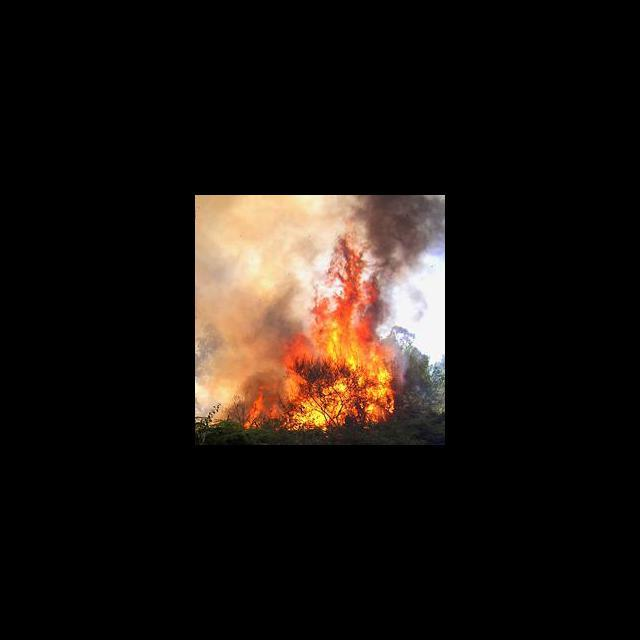Fire: (243, 232, 398, 430)
Smoke: (196, 197, 307, 333), (371, 198, 442, 274)
